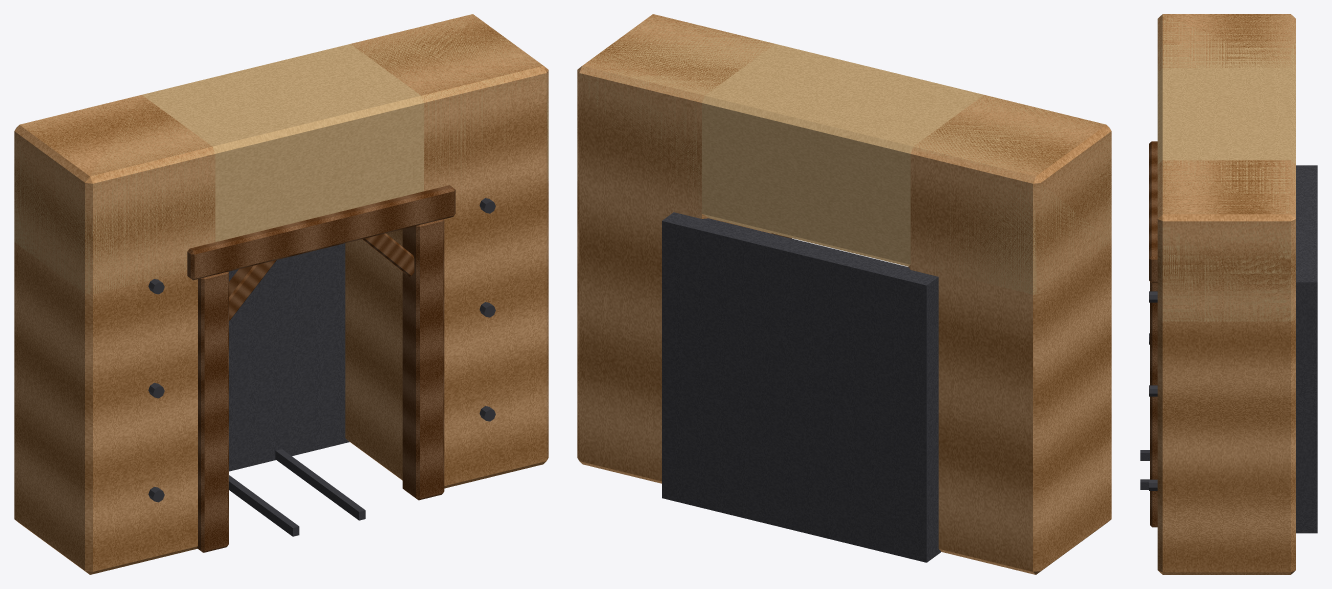
File: mine_portal.glb
The picture shows the model from 3 angles, left to right: view 1: azimuth 30°, elevation 25°; view 2: azimuth 150°, elevation 25°; view 3: azimuth 270°, elevation 25°; orthographic projection. The views are drawn at different scales.
Parts seen in each view (by area): view 1: mine_portal_Sandstone, mine_portal_CutStone, mine_portal_Timber, mine_portal_Iron; view 2: mine_portal_Sandstone, mine_portal_Iron, mine_portal_CutStone; view 3: mine_portal_Sandstone, mine_portal_CutStone, mine_portal_Iron, mine_portal_Timber.
Boxes of the visible parts, <box> form: mine_portal_Sandstone: <box>14,14,548,574</box>; mine_portal_CutStone: <box>14,14,548,294</box>; mine_portal_Timber: <box>187,185,455,552</box>; mine_portal_Iron: <box>148,198,495,536</box>; mine_portal_Sandstone: <box>577,14,1111,574</box>; mine_portal_Iron: <box>662,212,940,562</box>; mine_portal_CutStone: <box>577,14,1111,294</box>; mine_portal_Sandstone: <box>1157,14,1295,574</box>; mine_portal_CutStone: <box>1157,14,1295,321</box>; mine_portal_Iron: <box>1140,165,1317,533</box>; mine_portal_Timber: <box>1149,141,1157,527</box>.
Size of the model in its own units: 5.6 by 4.6 by 2.05.
Materials: 4 (4 with a texture image).
